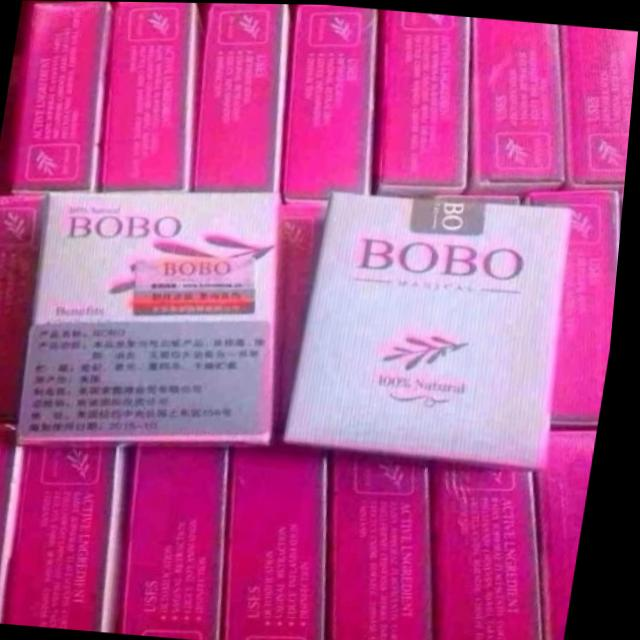box: (288, 191, 577, 469), (25, 193, 285, 445), (4, 444, 137, 631), (528, 190, 625, 424), (125, 442, 237, 640), (440, 456, 556, 640), (333, 447, 443, 640), (232, 444, 338, 640), (102, 1, 209, 190), (10, 0, 112, 192), (194, 2, 291, 190), (287, 3, 380, 197), (469, 18, 565, 191), (381, 11, 470, 194), (282, 197, 335, 443), (543, 426, 603, 640), (558, 24, 638, 181), (0, 190, 54, 419), (0, 416, 29, 620), (425, 191, 526, 206), (620, 184, 628, 228)
